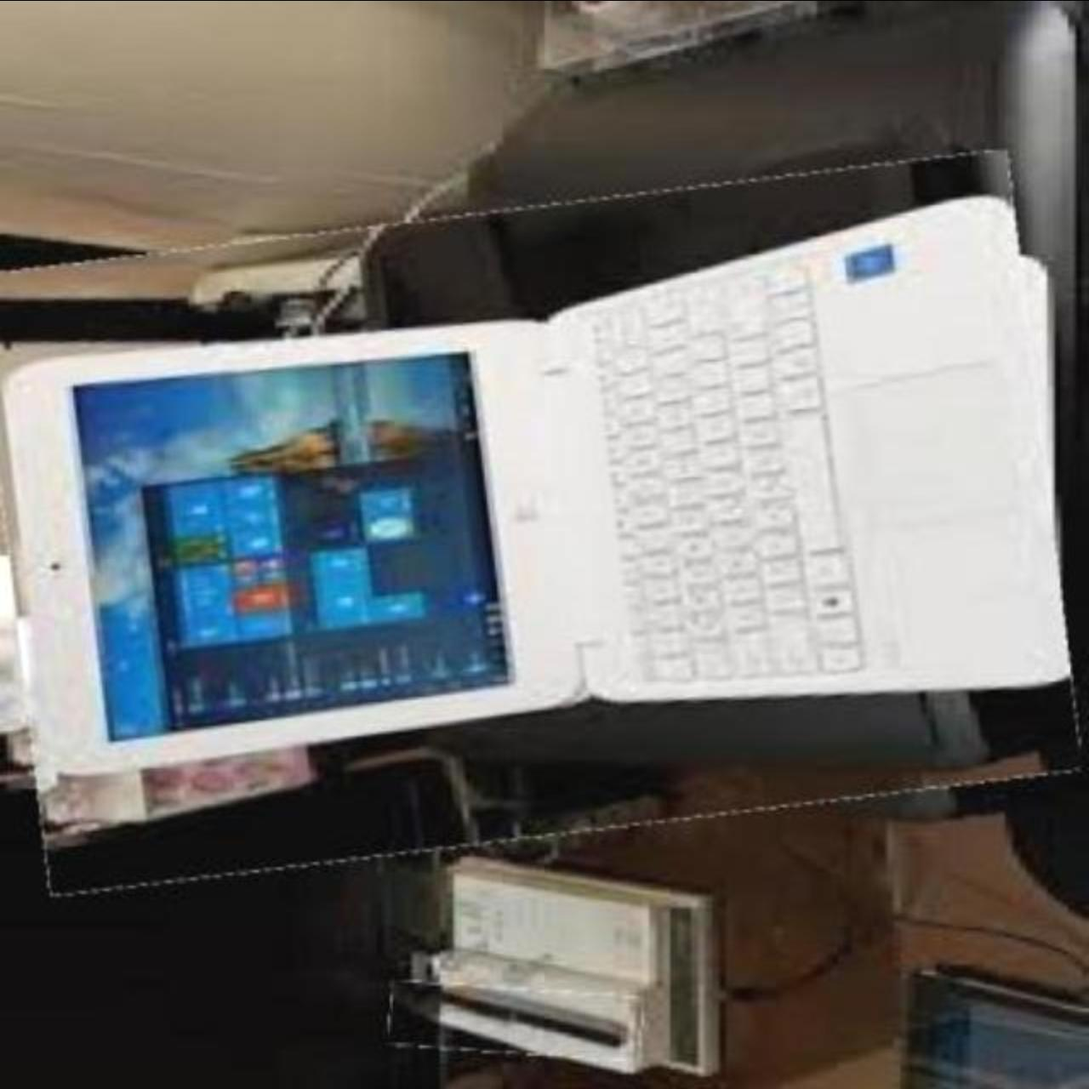laptop: (0, 180, 1062, 868)
